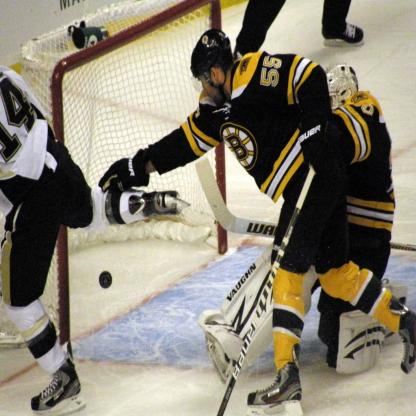Helmet: (188, 24, 237, 98), (324, 61, 359, 110)
